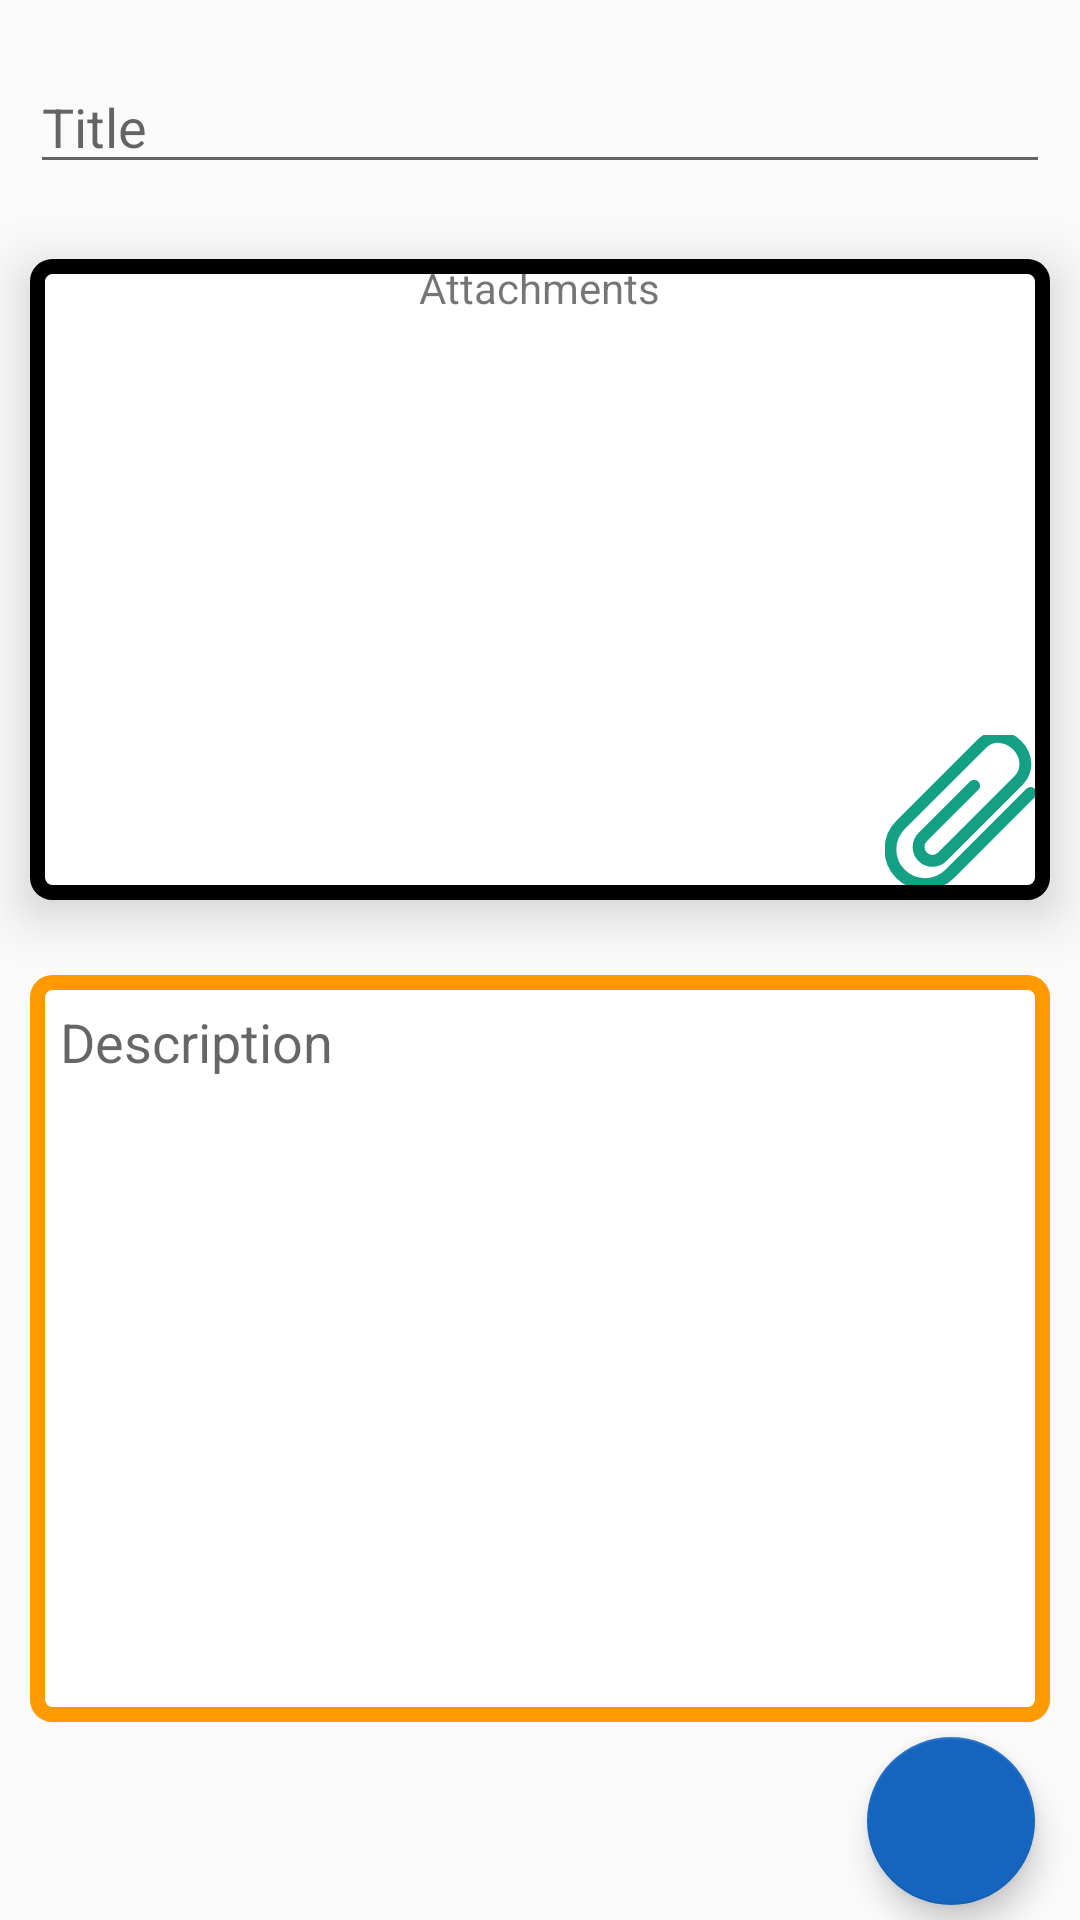

Where to tap for icons on this 1080×1920 app screen, as (x,y):
attachment: (960,810)
